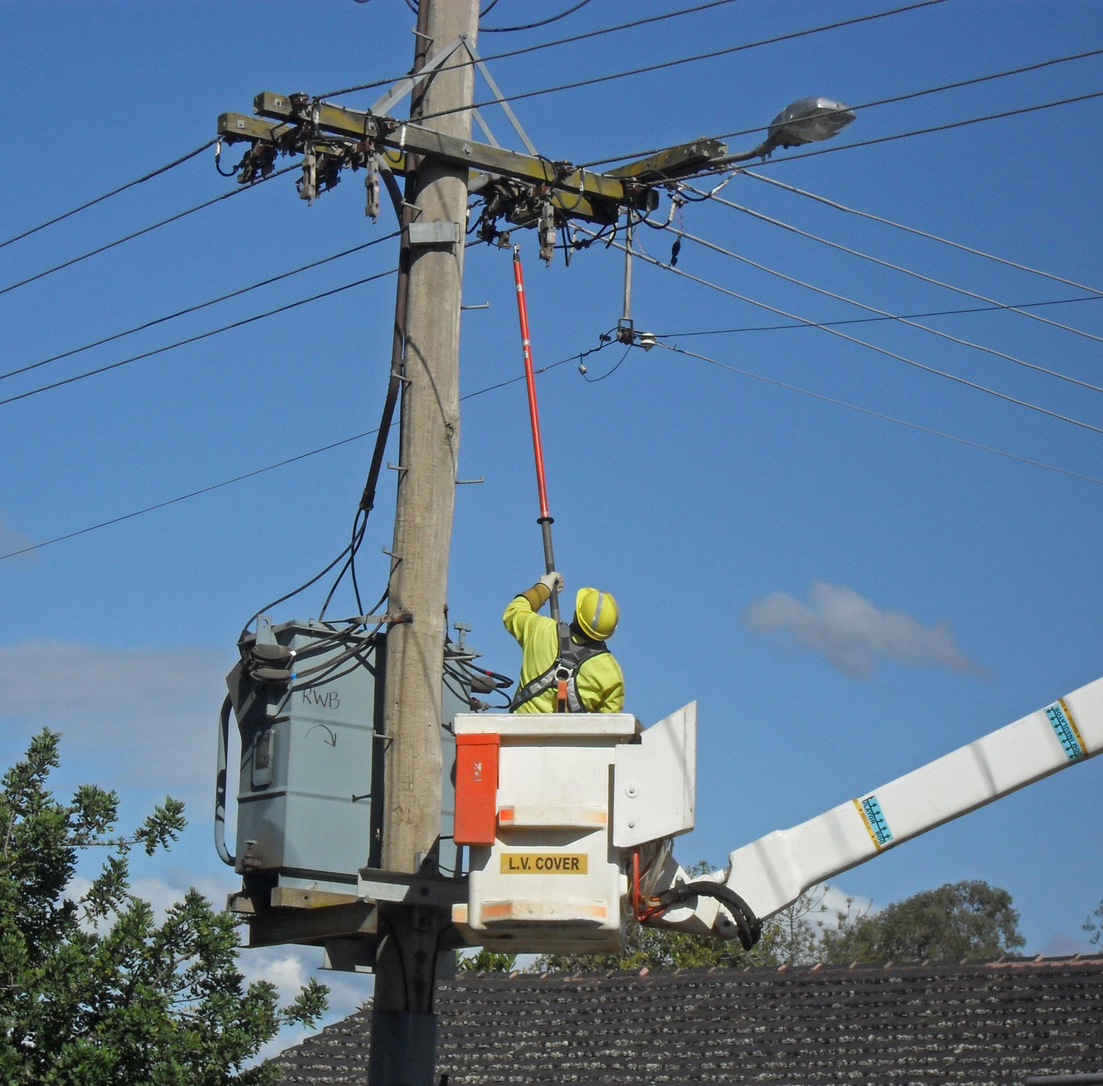Vara_Manobra: (506, 245, 565, 643)
